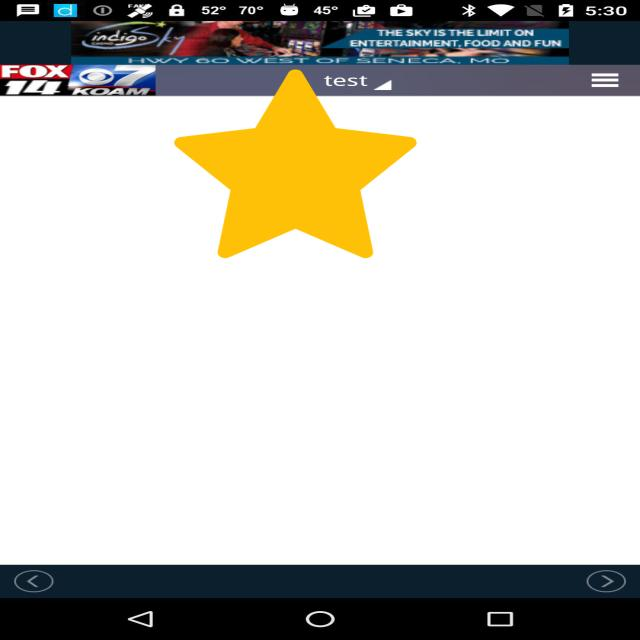forced continuity: (174, 70, 417, 258)
